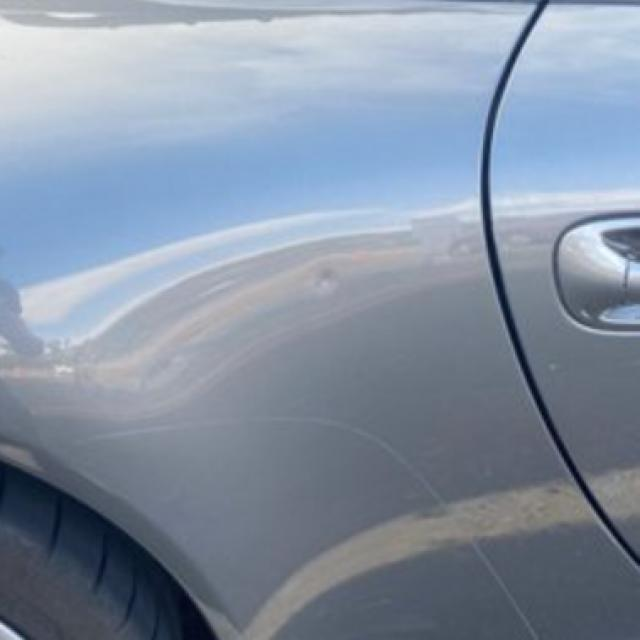dents: (286, 261, 374, 329), (429, 217, 485, 271)
